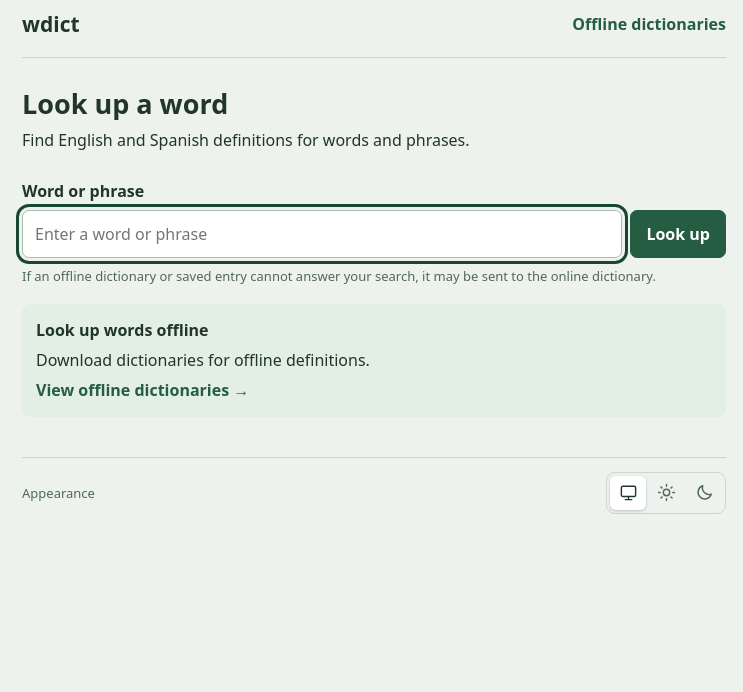
Test: lookup and offline dictionary UI › given_successful_lookup_when_next_entry_is_missing_then_previous_result_remains
In the field labelled "Word or phrase": (322, 234) [22, 210, 622, 258], type "hello"
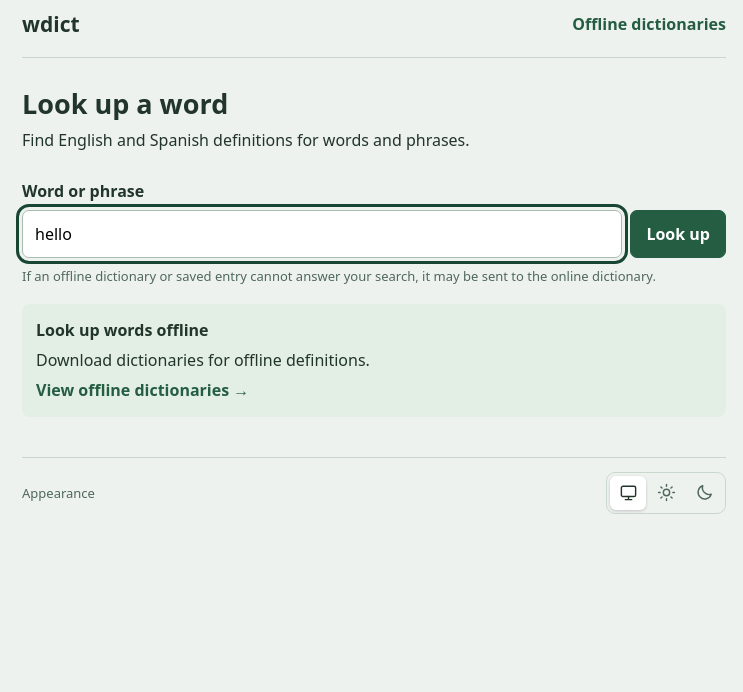
Click the button "Look up": (678, 234) [630, 210, 726, 258]
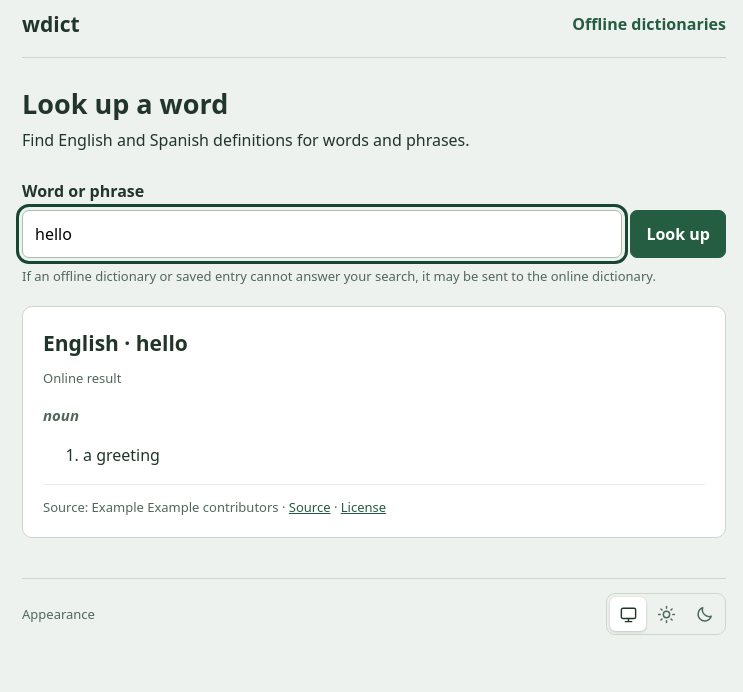
expect the list item "a greeting" is shown: met, box [83, 444, 160, 466]
Click the button "Look up": (678, 234) [630, 210, 726, 258]
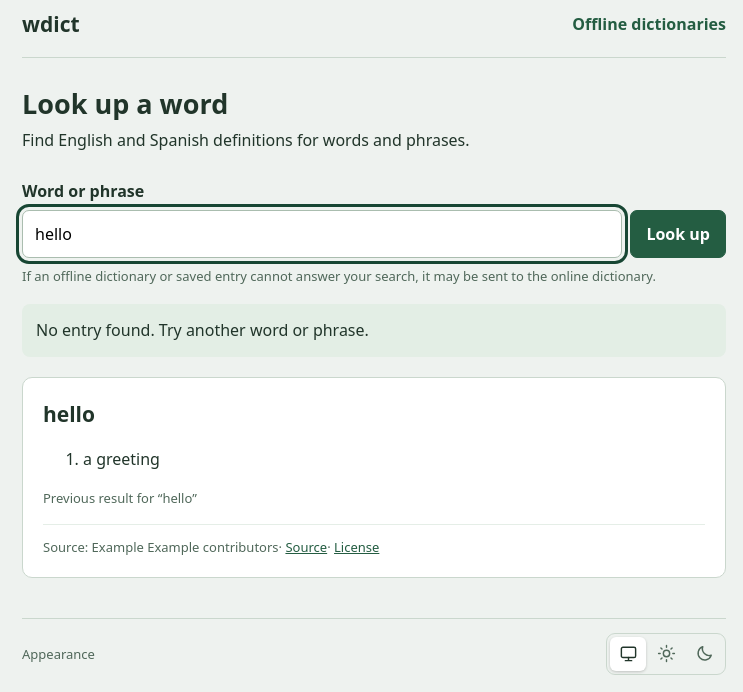
expect the list item "a greeting" is shown: met, box [83, 448, 160, 470]
expect the text "No entry found. Try another word or phrase." is shown: met, box [22, 304, 726, 357]
